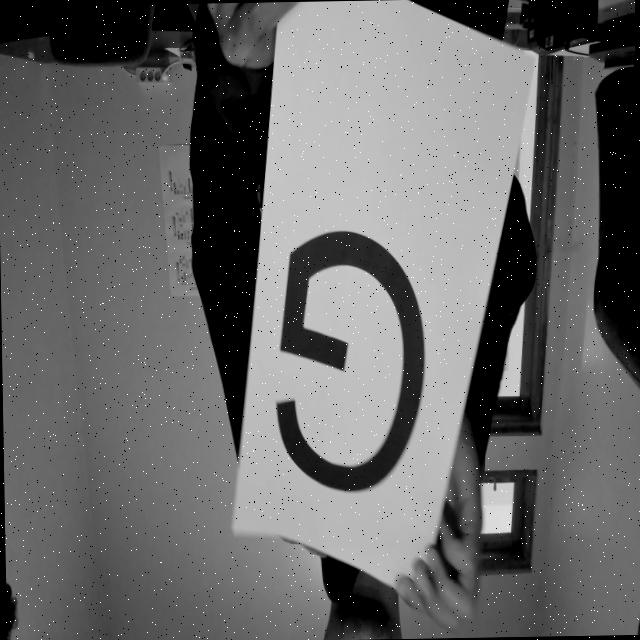g: (259, 222, 442, 500)
